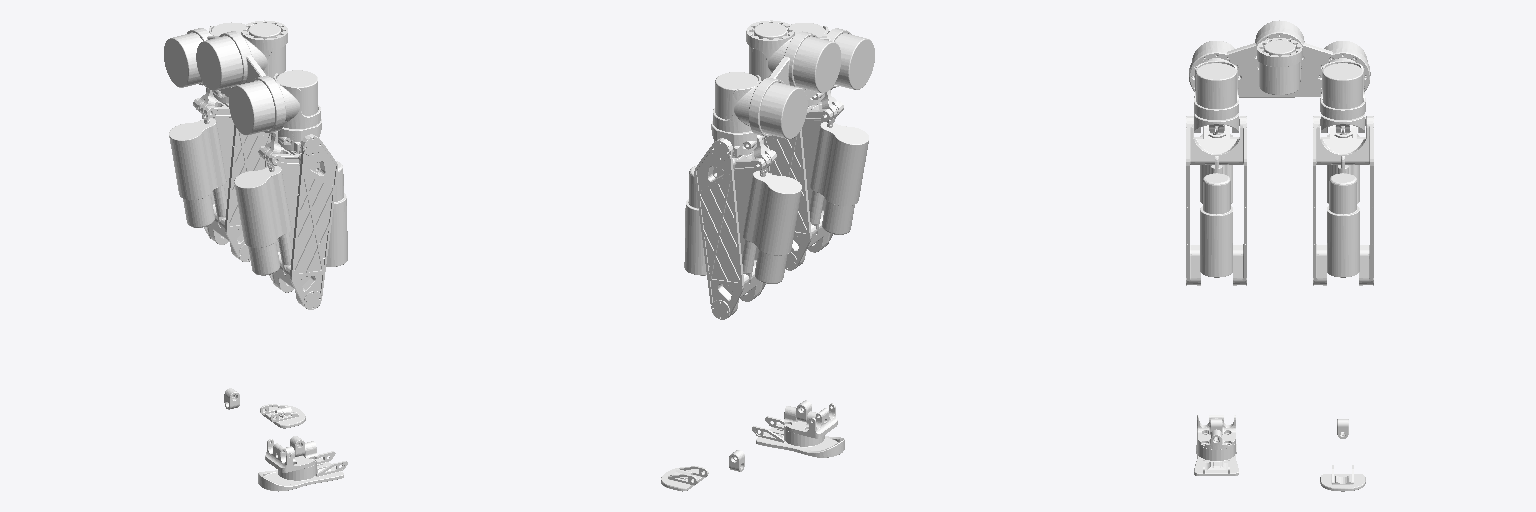
The robot description file, URDF, robot "CL201":
<?xml version='1.0' encoding='utf-8'?>
<robot name="CL201">
  <link name="base_link">
    <inertial>
      <origin xyz="0.1482 0.0042 -0.0387"  />
      <mass value="10.781" />
      <inertia ixx="0.1920" ixy="-0.0006" ixz="-0.0032" iyy="0.1698" iyz="0.0005" izz="0.1342" />
    </inertial>
    <visual>
      <geometry>
        <mesh filename="../meshes/base_link.STL" />
      </geometry>
      <material name="">
        <color rgba="1 1 1 1" />
      </material>
    </visual>
    <collision>
      <origin xyz="0.16 0 -0.1" />
      <geometry>
        <box size="0.21 0.42 0.55" />
      </geometry>
    </collision>
  </link>
  <link name="Link_waist_yaw">
    <inertial>
      <origin xyz="-0.0042 3.325E-07 0.0490"  />
      <mass value="0.7137" />
      <inertia ixx="0.0010" ixy="-3.4199E-09" ixz="-3.1475E-05" iyy="0.0011" iyz="-2.1109E-09" izz="0.0009" />
    </inertial>
    <visual>
      <geometry>
        <mesh filename="../meshes/Link_waist_yaw.STL" />
      </geometry>
      <material name="">
        <color rgba="1 1 1 1" />
      </material>
    </visual>
  </link>
  <joint name="J_waist_yaw" type="revolute">
    <origin xyz="0.148 0 -0.3356"  />
    <parent link="base_link" />
    <child link="Link_waist_yaw" />
    <axis xyz="0 0 -1" />
    <limit lower="-3.14" upper="3.14" effort="100" velocity="16.8" />
  </joint>
  <link name="Link_waist_roll">
    <inertial>
      <origin xyz="-0.0956 -2.5128E-05 0.0094"  />
      <mass value="2.5956" />
      <inertia ixx="0.0375" ixy="1.7001E-06" ixz="9.5553E-05" iyy="0.0050" iyz="-4.3231E-06" izz="0.0354" />
    </inertial>
    <visual>
      <geometry>
        <mesh filename="../meshes/Link_waist_roll.STL" />
      </geometry>
      <material name="">
        <color rgba="1 1 1 1" />
      </material>
    </visual>
  </link>
  <joint name="J_waist_roll" type="revolute">
    <parent link="Link_waist_yaw" />
    <child link="Link_waist_roll" />
    <axis xyz="0 0 -1" />
    <limit lower="-3.14" upper="3.14" effort="100" velocity="16.8" />
  </joint>
  <link name="Link_hip_r_roll">
    <inertial>
      <origin xyz="0.1348 -3.3250E-07 -0.0055"  />
      <mass value="0.7137" />
      <inertia ixx="0.0010" ixy="3.4199E-09" ixz="3.1475E-05" iyy="0.0011" iyz="-2.1109E-09" izz="0.0009" />
    </inertial>
    <visual>
      <geometry>
        <mesh filename="../meshes/Link_hip_r_roll.STL" />
      </geometry>
      <material name="">
        <color rgba="1 1 1 1" />
      </material>
    </visual>
  </link>
  <joint name="J_hip_r_roll" type="revolute">
    <origin xyz="-0.139 -0.14 -0.0055"  />
    <parent link="Link_waist_roll" />
    <child link="Link_hip_r_roll" />
    <axis xyz="1 0 0" />
    <limit lower="-3.14" upper="3.14" effort="100" velocity="16.8" />
  </joint>
  <link name="Link_hip_r_yaw">
    <inertial>
      <origin xyz="-0.0072 -1.1467E-08 -0.0155"  />
      <mass value="0.1487" />
      <inertia ixx="0.0002" ixy="-1.7351E-11" ixz="-1.4746E-05" iyy="0.0001" iyz="-1.0588E-10" izz="0.0003" />
    </inertial>
    <visual>
      <geometry>
        <mesh filename="../meshes/Link_hip_r_yaw.STL" />
      </geometry>
      <material name="">
        <color rgba="1 1 1 1" />
      </material>
    </visual>
  </link>
  <joint name="J_hip_r_yaw" type="revolute">
    <origin xyz="0.139 0 -0.0553"  />
    <parent link="Link_hip_r_roll" />
    <child link="Link_hip_r_yaw" />
    <axis xyz="0 0 1" />
    <limit lower="-3.14" upper="3.14" effort="100" velocity="16.8" />
  </joint>
  <link name="Link_thigh_r_pitch">
    <inertial>
      <origin xyz="-0.0065 -0.0680 -0.1918"  />
      <mass value="3.0987" />
      <inertia ixx="0.0270" ixy="-7.8982E-07" ixz="0.0035" iyy="0.0401" iyz="2.5703E-06" izz="0.0184" />
    </inertial>
    <visual>
      <geometry>
        <mesh filename="../meshes/Link_thigh_r_pitch.STL" />
      </geometry>
      <material name="">
        <color rgba="1 1 1 1" />
      </material>
    </visual>
  </link>
  <joint name="J_thigh_r_pitch" type="revolute">
    <origin xyz="0 0.0685 -0.0347"  />
    <parent link="Link_hip_r_yaw" />
    <child link="Link_thigh_r_pitch" />
    <axis xyz="0 -1 0" />
    <limit lower="-3.14" upper="3.14" effort="100" velocity="16.8" />
  </joint>
  <link name="Link_shins_r_pitch">
    <inertial>
      <origin xyz="0.0180 -0.0690 -0.1532"  />
      <mass value="1.6314" />
      <inertia ixx="0.0125" ixy="-4.4311E-05" ixz="-0.0006" iyy="0.0129" iyz="5.5400E-05" izz="0.0024" />
    </inertial>
    <visual>
      <geometry>
        <mesh filename="../meshes/Link_shins_r_pitch.STL" />
      </geometry>
      <material name="">
        <color rgba="1 1 1 1" />
      </material>
    </visual>
  </link>
  <joint name="J_shins_r_pitch" type="revolute">
    <origin xyz="0 0 -0.365"  />
    <parent link="Link_thigh_r_pitch" />
    <child link="Link_shins_r_pitch" />
    <axis xyz="0 -1 0" />
    <limit lower="-3.14" upper="3.14" effort="100" velocity="16.8" />
  </joint>
  <link name="Link_backsole_r_pitch">
    <inertial>
      <origin xyz="-1.9134E-12 -0.0250 -0.0090"  />
      <mass value="0.0169" />
      <inertia ixx="3.2280E-06" ixy="1.0473E-16" ixz="2.2819E-16" iyy="3.2279E-06" iyz="4.2924E-16" izz="1.7970E-06" />
    </inertial>
    <visual>
      <geometry>
        <mesh filename="../meshes/Link_backsole_r_pitch.STL" />
      </geometry>
      <material name="">
        <color rgba="1 1 1 1" />
      </material>
    </visual>
  </link>
  <joint name="J_backsole_r_pitch" type="revolute">
    <origin xyz="0 -0.0435 -0.365"  />
    <parent link="Link_shins_r_pitch" />
    <child link="Link_backsole_r_pitch" />
    <axis xyz="0 1 0" />
    <limit lower="-3.14" upper="3.14" effort="100" velocity="16.8" />
  </joint>
  <link name="Link_backsole_roll_r">
    <inertial>
      <origin xyz="-0.0370 9.0269E-06 -0.0375"  />
      <mass value="0.4214" />
      <inertia ixx="0.0004" ixy="-6.1211E-09" ixz="7.9201E-05" iyy="0.0009" iyz="-7.5304E-08" izz="0.0009" />
    </inertial>
    <visual>
      <geometry>
        <mesh filename="../meshes/Link_backsole_r_roll.STL" />
      </geometry>
      <material name="">
        <color rgba="1 1 1 1" />
      </material>
    </visual>
    <collision>
      <origin xyz="-0.006 0.005 -0.047" />
      <geometry>
        <box size="0.29 0.10 0.03" />
      </geometry>
    </collision>
  </link>
  <joint name="J_backsole_r_roll" type="revolute">
    <origin xyz="0.034 -0.025 -0.018"  />
    <parent link="Link_backsole_r_pitch" />
    <child link="Link_backsole_roll_r" />
    <axis xyz="1 0 0" />
    <limit lower="-3.14" upper="3.14" effort="100" velocity="16.8" />
  </joint>
  <link name="Link_frontsole_r_pitch">
    <inertial>
      <origin xyz="0.0369 -0.0278 -0.0121"  />
      <mass value="0.0673" />
      <inertia ixx="4.5322E-05" ixy="-2.1532E-09" ixz="1.6227E-06" iyy="3.0274E-05" iyz="-9.0753E-09" izz="7.2126E-05" />
    </inertial>
    <visual>
      <geometry>
        <mesh filename="../meshes/Link_frontsole_r_pitch.STL" />
      </geometry>
      <material name="">
        <color rgba="1 1 1 1" />
      </material>
    </visual>
  </link>
  <joint name="J_frontsole_r_pitch" type="fixed">
    <origin xyz="0.058 0.0278 -0.0475"  />
    <parent link="Link_backsole_roll_r" />
    <child link="Link_frontsole_r_pitch" />
    <axis xyz="0 -1 0" />
    <limit lower="-3.14" upper="3.14" effort="100" velocity="16.8" />
  </joint>
  <link name="Link_hip_l_roll">
    <inertial>
      <origin xyz="0.1348 -3.3250E-07 -0.0055"  />
      <mass value="0.7137" />
      <inertia ixx="0.0010" ixy="3.4199E-09" ixz="3.1475E-05" iyy="0.0011" iyz="-2.1109E-09" izz="0.0009" />
    </inertial>
    <visual>
      <geometry>
        <mesh filename="../meshes/Link_hip_l_roll.STL" />
      </geometry>
      <material name="">
        <color rgba="1 1 1 1" />
      </material>
    </visual>
  </link>
  <joint name="J_hip_l_roll" type="revolute">
    <origin xyz="-0.139 0.14 -0.0055"  />
    <parent link="Link_waist_roll" />
    <child link="Link_hip_l_roll" />
    <axis xyz="1 0 0" />
    <limit lower="-3.14" upper="3.14" effort="100" velocity="16.8" />
  </joint>
  <link name="Link_hip_l_yaw">
    <inertial>
      <origin xyz="-0.0072 -1.1467E-08 -0.0155"  />
      <mass value="0.1487" />
      <inertia ixx="0.0002" ixy="-1.7351E-11" ixz="-1.4746E-05" iyy="0.0001" iyz="-1.0588E-10" izz="0.0003" />
    </inertial>
    <visual>
      <geometry>
        <mesh filename="../meshes/Link_hip_l_yaw.STL" />
      </geometry>
      <material name="">
        <color rgba="1 1 1 1" />
      </material>
    </visual>
  </link>
  <joint name="J_hip_l_yaw" type="revolute">
    <origin xyz="0.139 0 -0.0553"  />
    <parent link="Link_hip_l_roll" />
    <child link="Link_hip_l_yaw" />
    <axis xyz="0 0 1" />
    <limit lower="-3.14" upper="3.14" effort="100" velocity="16.8" />
  </joint>
  <link name="Link_thigh_l_pitch">
    <inertial>
      <origin xyz="-0.0065 -0.0680 -0.1918"  />
      <mass value="3.0987" />
      <inertia ixx="0.0270" ixy="-6.1575E-07" ixz="0.0035" iyy="0.0401" iyz="1.6242E-06" izz="0.0184" />
    </inertial>
    <visual>
      <geometry>
        <mesh filename="../meshes/Link_thigh_l_pitch.STL" />
      </geometry>
      <material name="">
        <color rgba="1 1 1 1" />
      </material>
    </visual>
  </link>
  <joint name="J_thigh_l_pitch" type="revolute">
    <origin xyz="0 0.0685 -0.0347"  />
    <parent link="Link_hip_l_yaw" />
    <child link="Link_thigh_l_pitch" />
    <axis xyz="0 -1 0" />
    <limit lower="-3.14" upper="3.14" effort="100" velocity="16.8" />
  </joint>
  <link name="Link_shins_l_pitch">
    <inertial>
      <origin xyz="0.0180 -0.0680 -0.1532"  />
      <mass value="1.6314" />
      <inertia ixx="0.0125" ixy="4.6262E-05" ixz="-0.0006" iyy="0.0129" iyz="-5.4292E-05" izz="0.0024" />
    </inertial>
    <visual>
      <geometry>
        <mesh filename="../meshes/Link_shins_l_pitch.STL" />
      </geometry>
      <material name="">
        <color rgba="1 1 1 1" />
      </material>
    </visual>
  </link>
  <joint name="J_shins_l_pitch" type="revolute">
    <origin xyz="0 0 -0.365"  />
    <parent link="Link_thigh_l_pitch" />
    <child link="Link_shins_l_pitch" />
    <axis xyz="0 -1 0" />
    <limit lower="-3.14" upper="3.14" effort="100" velocity="16.8" />
  </joint>
  <link name="Link_backsole_l_pitch">
    <inertial>
      <origin xyz="1.9134E-12 -0.0250 -0.0090"  />
      <mass value="0.0169" />
      <inertia ixx="3.2280E-06" ixy="1.0473E-16" ixz="-2.2819E-16" iyy="3.2279E-06" iyz="-4.2924E-16" izz="1.7970E-06" />
    </inertial>
    <visual>
      <geometry>
        <mesh filename="../meshes/Link_backsole_l_pitch.STL" />
      </geometry>
      <material name="">
        <color rgba="1 1 1 1" />
      </material>
    </visual>
  </link>
  <joint name="J_backsole_l_pitch" type="revolute">
    <origin xyz="0 -0.0435 -0.365"  />
    <parent link="Link_shins_l_pitch" />
    <child link="Link_backsole_l_pitch" />
    <axis xyz="0 1 0" />
    <limit lower="-3.14" upper="3.14" effort="100" velocity="16.8" />
  </joint>
  <link name="Link_backsole_roll_l">
    <inertial>
      <origin xyz="-0.0370 9.0269E-06 -0.0375"  />
      <mass value="0.4214" />
      <inertia ixx="0.0004" ixy="-6.1211E-09" ixz="7.9201E-05" iyy="0.0009" iyz="-7.5304E-08" izz="0.0009" />
    </inertial>
    <visual>
      <geometry>
        <mesh filename="../meshes/Link_backsole_l_roll.STL" />
      </geometry>
      <material name="">
        <color rgba="1 1 1 1" />
      </material>
    </visual>
    <collision>
      <origin xyz="-0.006 0.005 -0.047" />
      <geometry>
        <box size="0.29 0.10 0.03" />
      </geometry>
    </collision>
  </link>
  <joint name="J_backsole_l_roll" type="revolute">
    <origin xyz="0.034 -0.025 -0.018"  />
    <parent link="Link_backsole_l_pitch" />
    <child link="Link_backsole_roll_l" />
    <axis xyz="1 0 0" />
    <limit lower="-3.14" upper="3.14" effort="100" velocity="16.8" />
  </joint>
  <link name="Link_frontsole_l_pitch">
    <inertial>
      <origin xyz="0.0369 -0.0278 -0.0121"  />
      <mass value="0.0673" />
      <inertia ixx="4.5322E-05" ixy="-2.1532E-09" ixz="1.6227E-06" iyy="3.0274E-05" iyz="-9.0753E-09" izz="7.2126E-05" />
    </inertial>
    <visual>
      <geometry>
        <mesh filename="../meshes/Link_frontsole_l_pitch.STL" />
      </geometry>
      <material name="">
        <color rgba="1 1 1 1" />
      </material>
    </visual>
  </link>
  <joint name="J_frontsole_l_pitch" type="fixed">
    <origin xyz="0.058 0.0278 -0.0475"  />
    <parent link="Link_backsole_roll_l" />
    <child link="Link_frontsole_l_pitch" />
    <axis xyz="0 -1 0" />
    <limit lower="-3.14" upper="3.14" effort="100" velocity="16.8" />
  </joint>
</robot>

--- Facts derived from the render (not from the file) ---
Views: 3 orthographic renders of the robot side by side, from view 1: azimuth 30°, elevation 25°; view 2: azimuth 150°, elevation 25°; view 3: azimuth 270°, elevation 25°.
Robot: CL201 — 17 links, 16 joints (14 revolute, 2 fixed); root link base_link; default pose: every joint at zero.
Links seen in each view (by area): view 1: Link_thigh_r_pitch, Link_thigh_l_pitch, Link_waist_roll, Link_backsole_roll_r, Link_hip_r_roll, Link_waist_yaw, Link_frontsole_l_pitch, Link_hip_r_yaw; view 2: Link_thigh_l_pitch, Link_thigh_r_pitch, Link_waist_roll, Link_backsole_roll_r, Link_hip_l_roll, Link_waist_yaw, Link_frontsole_l_pitch, Link_hip_l_yaw; view 3: Link_thigh_r_pitch, Link_thigh_l_pitch, Link_waist_roll, Link_hip_r_roll, Link_hip_l_roll, Link_waist_yaw, Link_backsole_roll_r, Link_frontsole_l_pitch.
Link boxes in pixels (box(x1,y1,x2,y2)): Link_thigh_r_pitch: box(234, 131, 347, 309); Link_thigh_l_pitch: box(169, 88, 270, 261); Link_waist_roll: box(164, 28, 285, 135); Link_backsole_roll_r: box(258, 439, 347, 491); Link_hip_r_roll: box(274, 70, 320, 128); Link_waist_yaw: box(241, 20, 287, 78); Link_frontsole_l_pitch: box(260, 404, 305, 428); Link_hip_r_yaw: box(269, 119, 321, 152); Link_thigh_l_pitch: box(684, 135, 801, 319); Link_thigh_r_pitch: box(764, 90, 868, 270); Link_waist_roll: box(749, 28, 874, 138); Link_backsole_roll_r: box(752, 403, 844, 457); Link_hip_l_roll: box(713, 72, 760, 132); Link_waist_yaw: box(746, 20, 794, 80); Link_frontsole_l_pitch: box(661, 466, 708, 491); Link_hip_l_yaw: box(711, 121, 765, 156); Link_thigh_r_pitch: box(1186, 116, 1246, 285); Link_thigh_l_pitch: box(1313, 116, 1373, 285); Link_waist_roll: box(1189, 20, 1370, 97); Link_hip_r_roll: box(1194, 58, 1238, 119); Link_hip_l_roll: box(1320, 58, 1365, 119); Link_waist_yaw: box(1257, 38, 1302, 94); Link_backsole_roll_r: box(1194, 415, 1238, 475); Link_frontsole_l_pitch: box(1320, 465, 1365, 491).
Bounding box of the posed robot: 0.3226 × 0.416 × 1.01 m (x, y, z).
Meshes: 17 distinct files referenced, 12 mesh visuals loaded (12 binary STL); not drawn: 5 (reference not matched to a file when rendering).